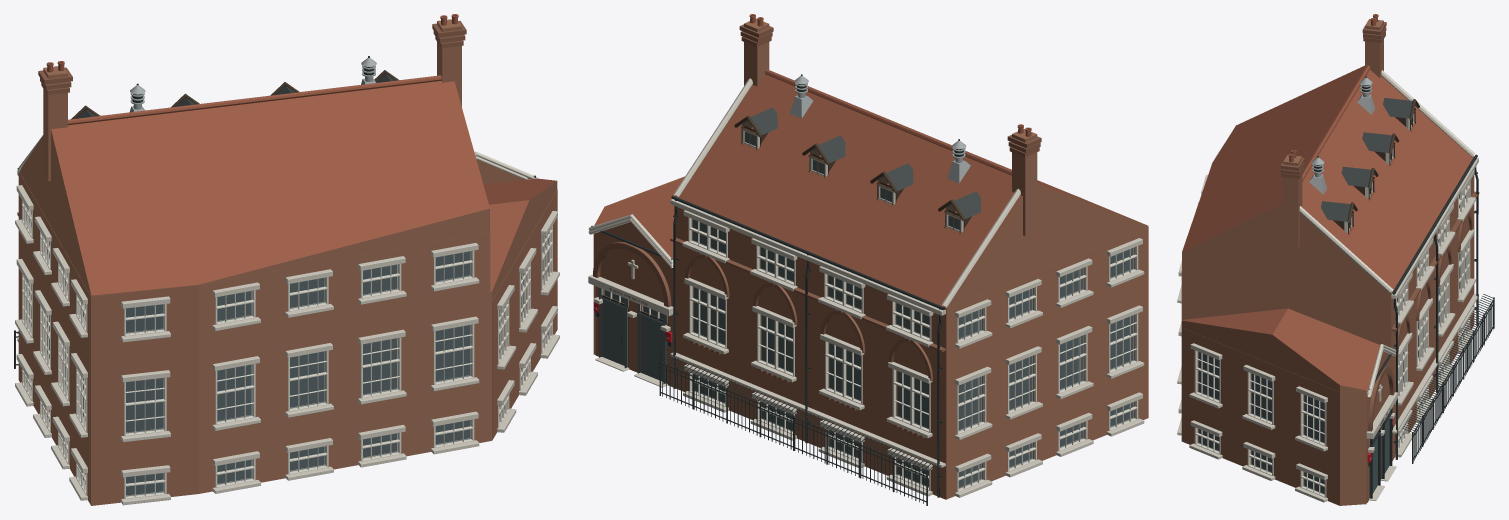
File: par-exterior-c1407d5c447a.glb
The picture shows the model from 3 angles, left to right: view 1: azimuth 30°, elevation 25°; view 2: azimuth 150°, elevation 25°; view 3: azimuth 270°, elevation 25°; orthographic projection. The views are drawn at different scales.
Visible parts, largest first — view 1: PAR.001; view 2: PAR.001; view 3: PAR.001.
Part boxes in pixels (x1=…): PAR.001: x1=14, y1=14, x2=559, y2=505; PAR.001: x1=588, y1=14, x2=1148, y2=505; PAR.001: x1=1177, y1=14, x2=1494, y2=505.
Size of the model in its own units: 23.48 by 15.54 by 14.92.
